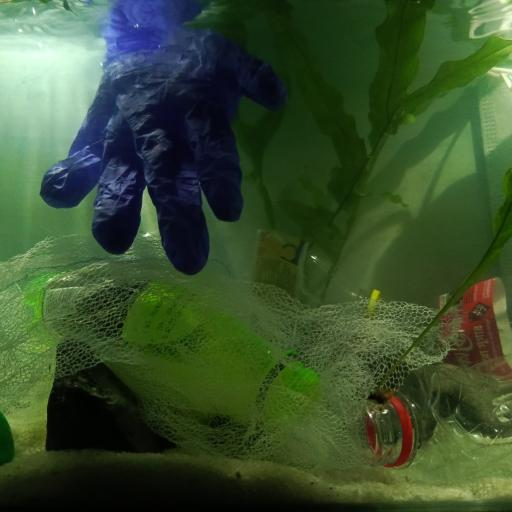glove: (42, 14, 288, 277)
net: (1, 231, 459, 477)
plastic_bottle: (17, 262, 319, 426), (357, 361, 512, 484), (203, 222, 387, 323), (405, 278, 512, 371)
